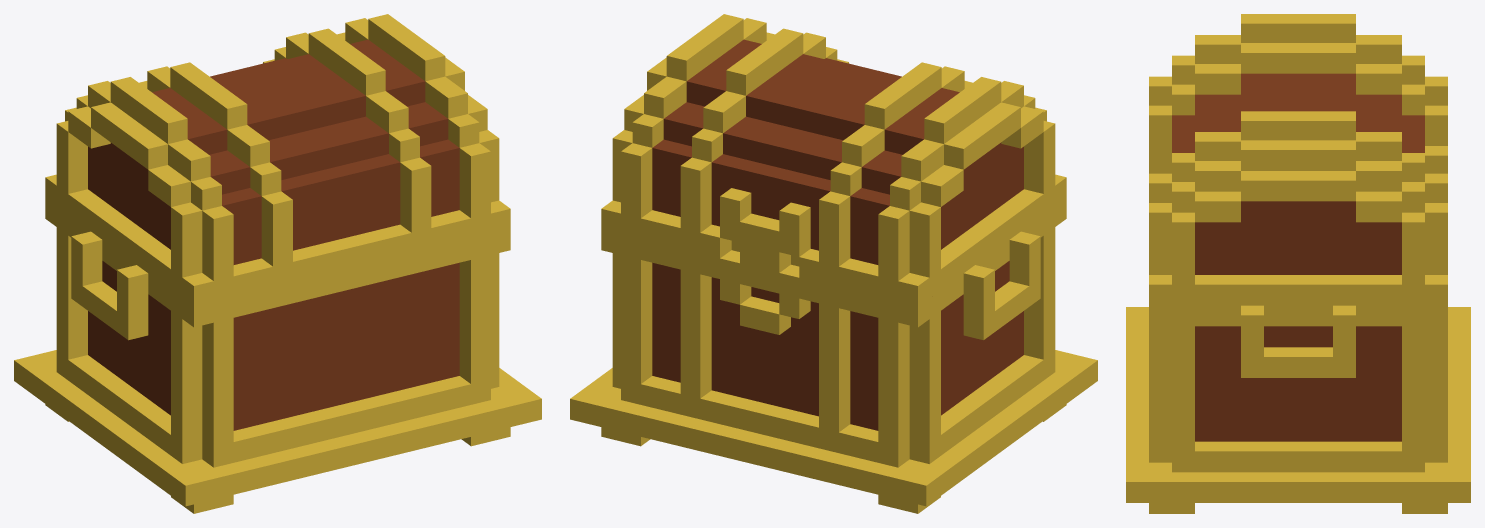
File: ChestBoss.dae
The picture shows the model from 3 angles, left to right: view 1: azimuth 30°, elevation 25°; view 2: azimuth 150°, elevation 25°; view 3: azimuth 270°, elevation 25°; orthographic projection.
Parts seen in each view (by area): view 1: Box-local, Top-local; view 2: Box-local, Top-local; view 3: Top-local, Box-local.
Part boxes in pixels (x1,y1,x2,y2): Box-local: (14, 198, 541, 513); Top-local: (45, 14, 510, 306); Box-local: (570, 198, 1097, 513); Top-local: (601, 14, 1066, 306); Top-local: (1149, 14, 1447, 305); Box-local: (1126, 305, 1470, 513).
Bounding box in the file's own units: 18 × 17 × 15.
Materials: 2 (2 with a texture image).
